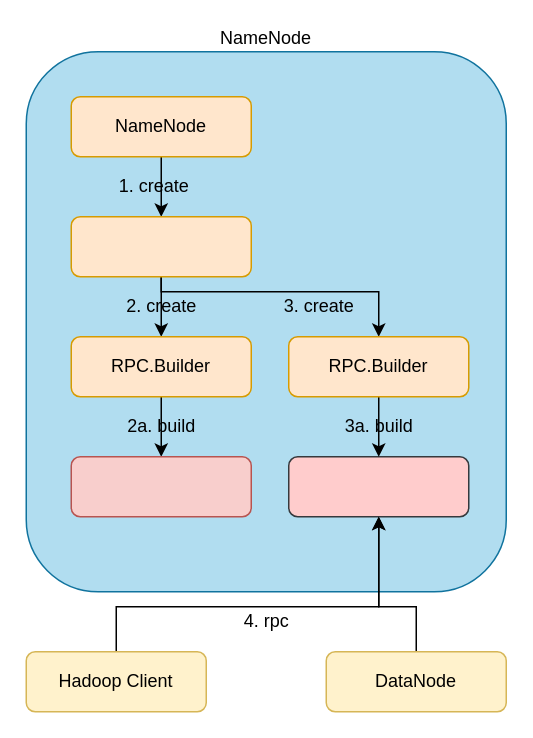
The diagram is 533 pixels wide and 738 high, and some of its shapes have lost their labels. Each missing label, with the centre of its shape:
"NameNodeRpcServer" belongs at [160,246].
"RPC.Server （Client / 8020）" belongs at [378,486].
"RPC.Server （Service）" belongs at [160,486].
